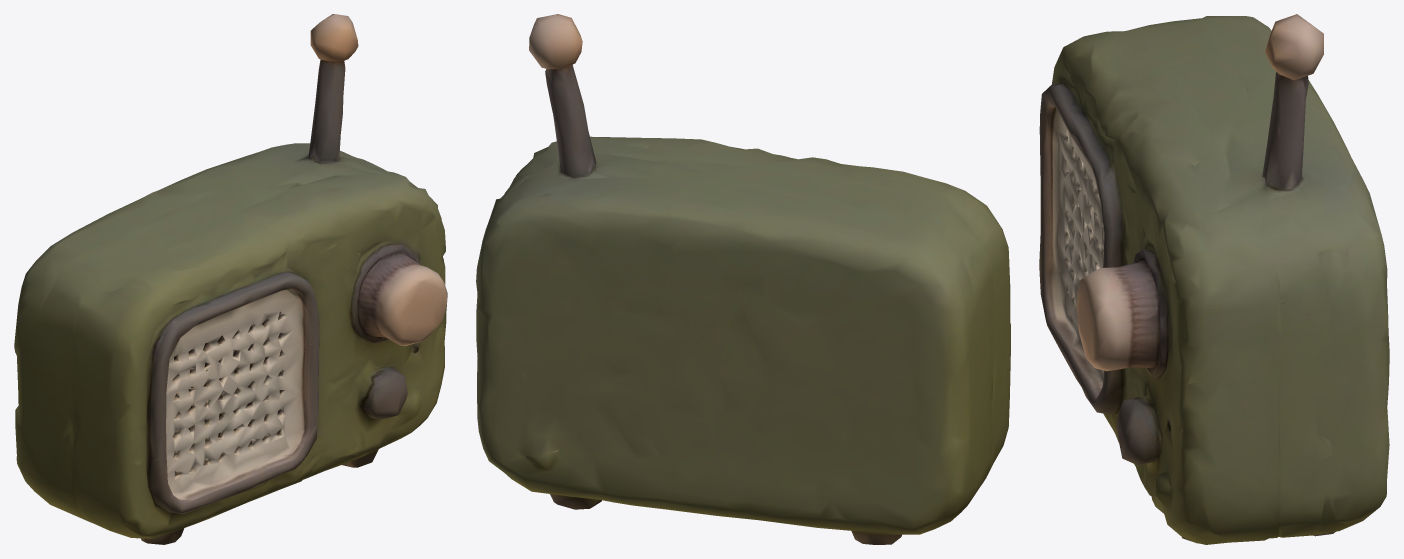
Rendered from field_radio.glb.
The picture shows the model from 3 angles, left to right: view 1: azimuth 30°, elevation 25°; view 2: azimuth 150°, elevation 25°; view 3: azimuth 270°, elevation 25°; orthographic projection. The views are drawn at different scales.
Visible parts, largest first — view 1: tripo_node_007868ee-d984-4c61-acb3-35efc0109c1c; view 2: tripo_node_007868ee-d984-4c61-acb3-35efc0109c1c; view 3: tripo_node_007868ee-d984-4c61-acb3-35efc0109c1c.
Part boxes in pixels (x1,y1,x2,y2): tripo_node_007868ee-d984-4c61-acb3-35efc0109c1c: (14,14,447,544); tripo_node_007868ee-d984-4c61-acb3-35efc0109c1c: (476,14,1010,544); tripo_node_007868ee-d984-4c61-acb3-35efc0109c1c: (1039,14,1389,544).
Size of the model in its own units: 1 by 0.9597 by 0.5792.
1 material, 1 textured.
